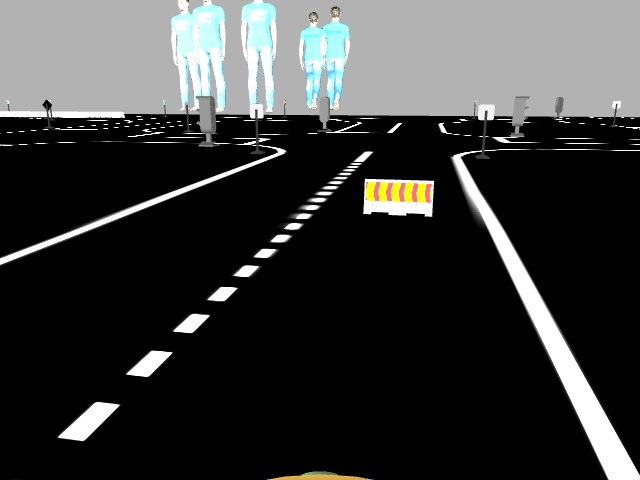ClosedRoadStand: (366, 179, 432, 215)
